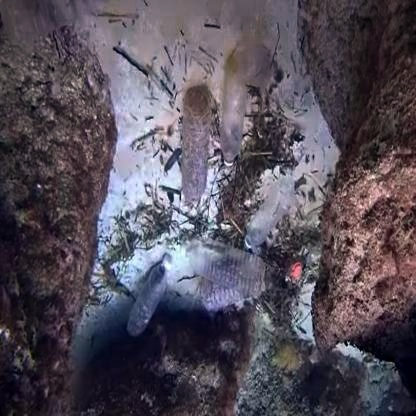pbottle: (242, 168, 302, 261), (200, 236, 276, 306), (220, 42, 253, 173), (178, 106, 214, 217), (127, 255, 168, 342)
